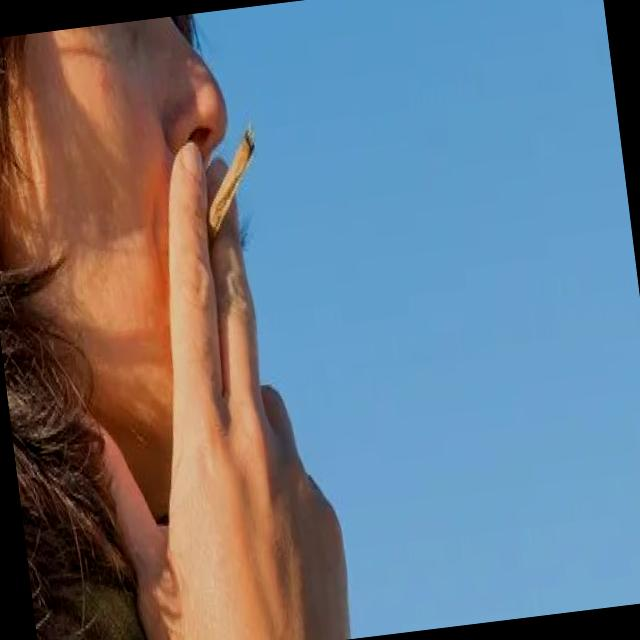cigarette: (185, 118, 275, 249)
